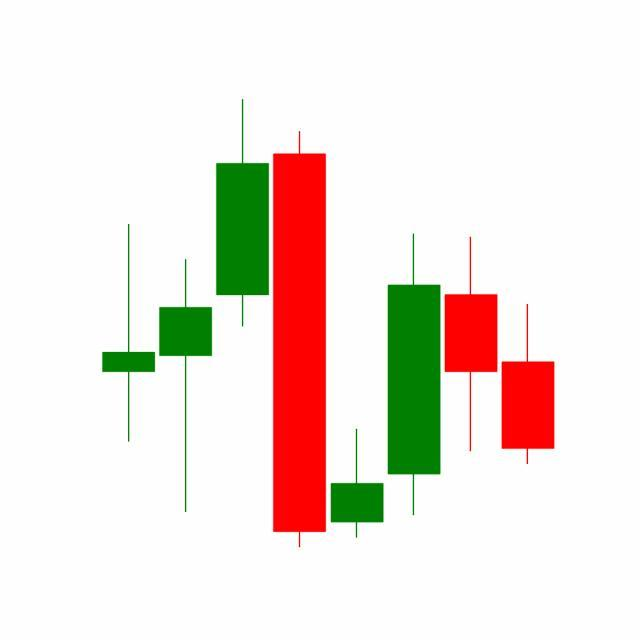Hikkake Pattern: (270, 127, 555, 549)
